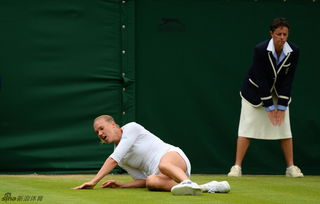fall: (69, 110, 227, 195)
